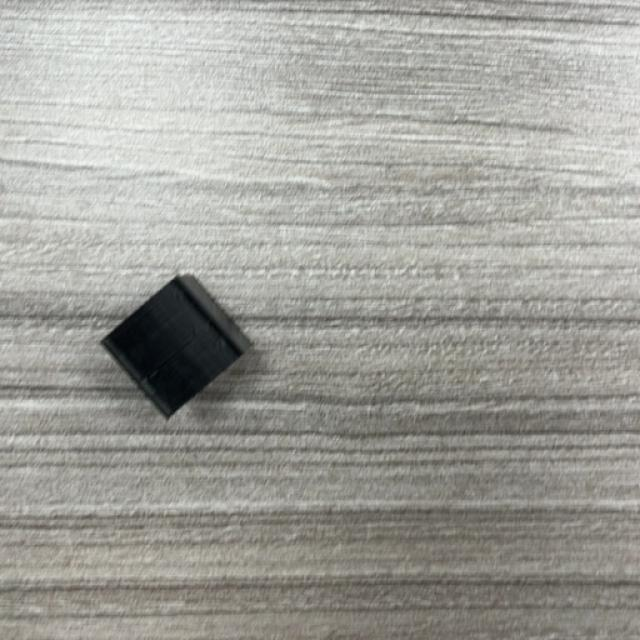Negro: (100, 274, 252, 420)
